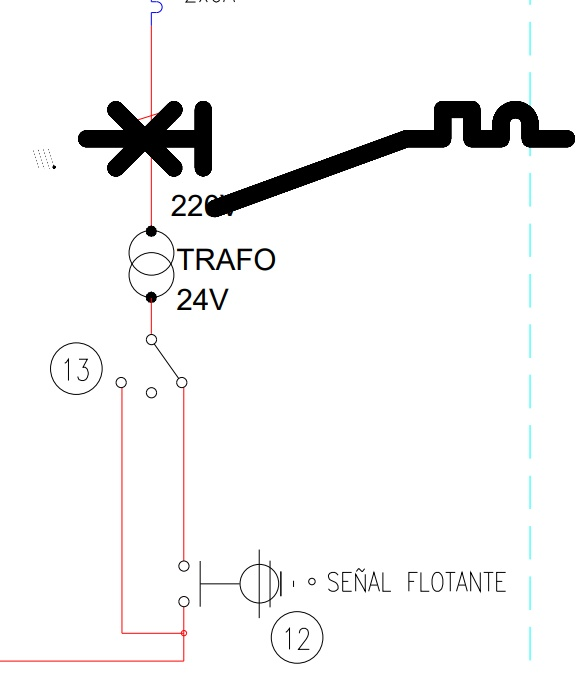interruptor_termomagnetico: (74, 97, 579, 220)
